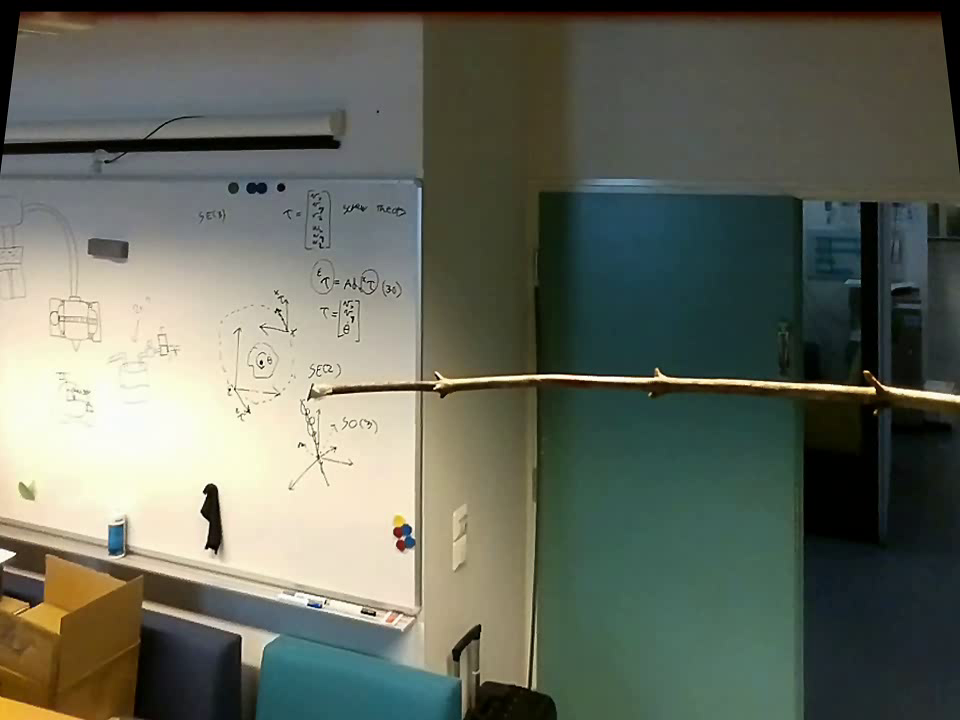aluminum_frame: (2, 511, 419, 633), (409, 163, 431, 620), (0, 167, 423, 190)
branch: (339, 358, 958, 422)
